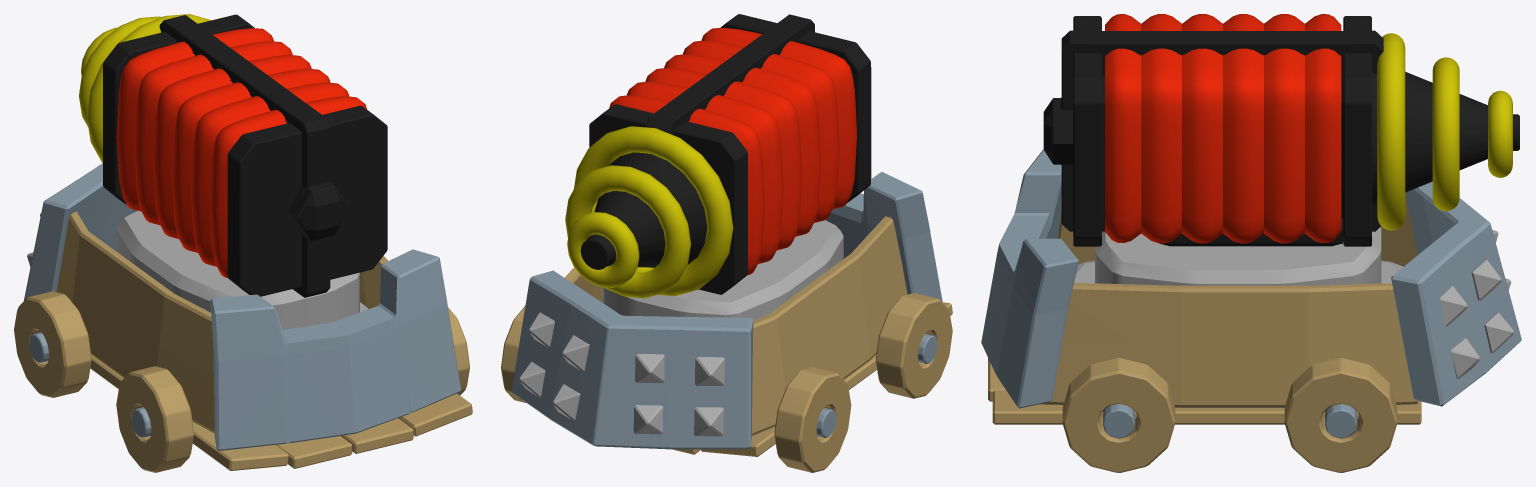
Rendered from Sparky.fbx.
The picture shows the model from 3 angles, left to right: view 1: azimuth 30°, elevation 25°; view 2: azimuth 150°, elevation 25°; view 3: azimuth 270°, elevation 25°; orthographic projection. The views are drawn at different scales.
Visible parts, largest first — view 1: pTorus4, pCylinder7, pCylinder8, pCylinder3; view 2: pTorus4, pCylinder8, pCylinder7, pCylinder5; view 3: pTorus4, pCylinder3, pCylinder5.
Boxes of the visible parts, x1=… form: pTorus4: x1=24, y1=14, x2=472, y2=470; pCylinder7: x1=14, y1=291, x2=91, y2=397; pCylinder8: x1=116, y1=366, x2=193, y2=472; pCylinder3: x1=448, y1=307, x2=469, y2=395; pTorus4: x1=511, y1=14, x2=952, y2=456; pCylinder8: x1=875, y1=293, x2=952, y2=398; pCylinder7: x1=774, y1=367, x2=851, y2=472; pCylinder5: x1=501, y1=306, x2=526, y2=403; pTorus4: x1=981, y1=14, x2=1521, y2=438; pCylinder3: x1=1062, y1=358, x2=1175, y2=472; pCylinder5: x1=1284, y1=358, x2=1397, y2=472.
Bounding box in the file's own units: 259 × 263 × 360.
